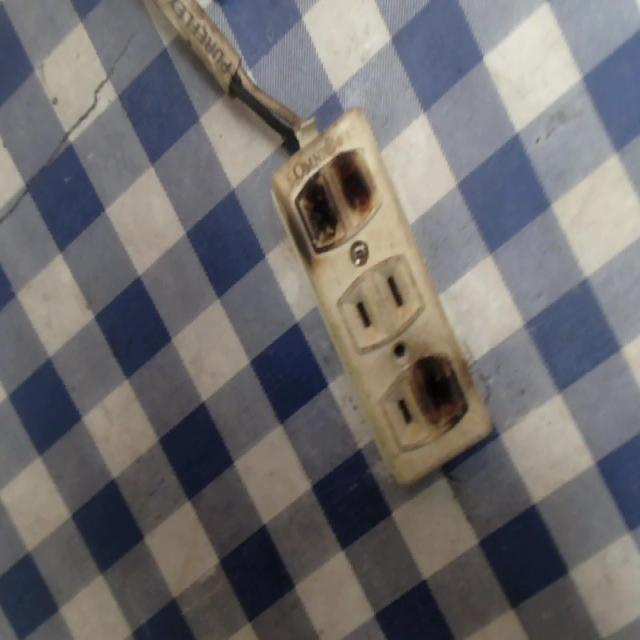-: (282, 140, 379, 251), (411, 348, 473, 433)
